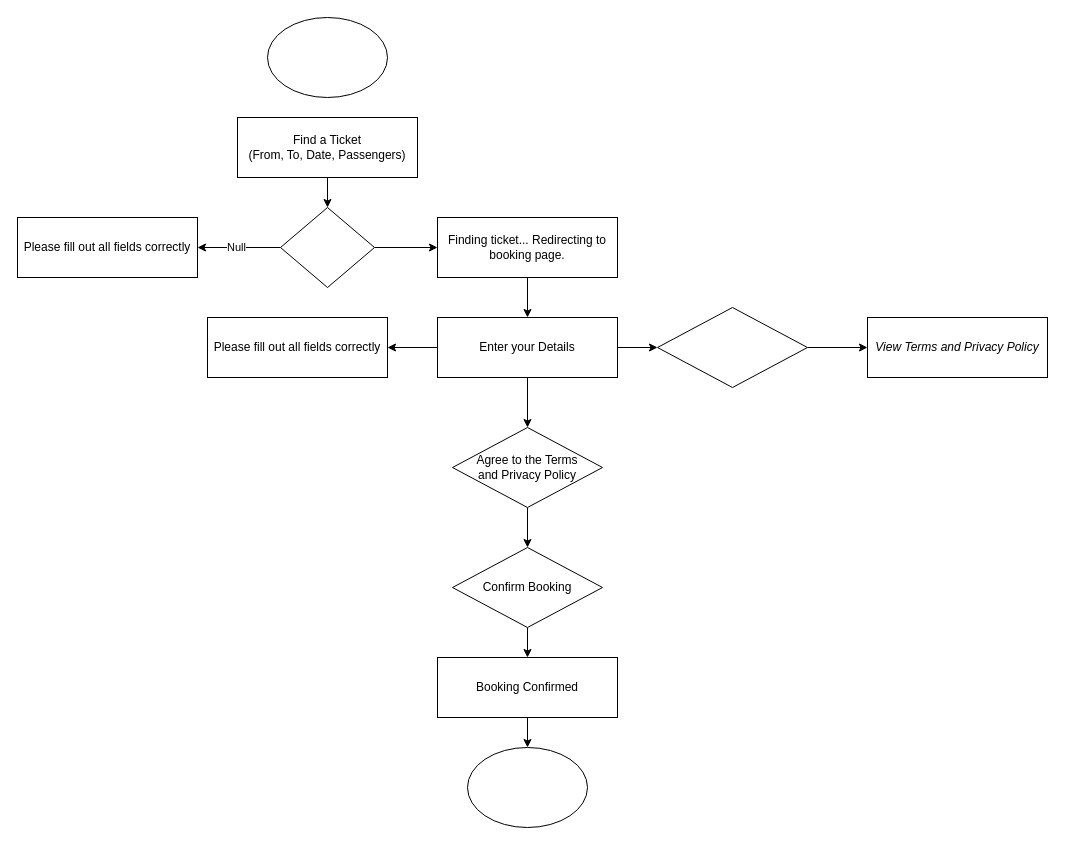
This 1065x845 diagram has some shape labels left out. Here are the shapes that lost their labels. From the top down, the centre of each, then its label:
the point at 327,57: Start
the point at 327,247: Click "Find Ticket"
the point at 732,347: Click "Terms and Privacy Policy"
the point at 527,787: End
